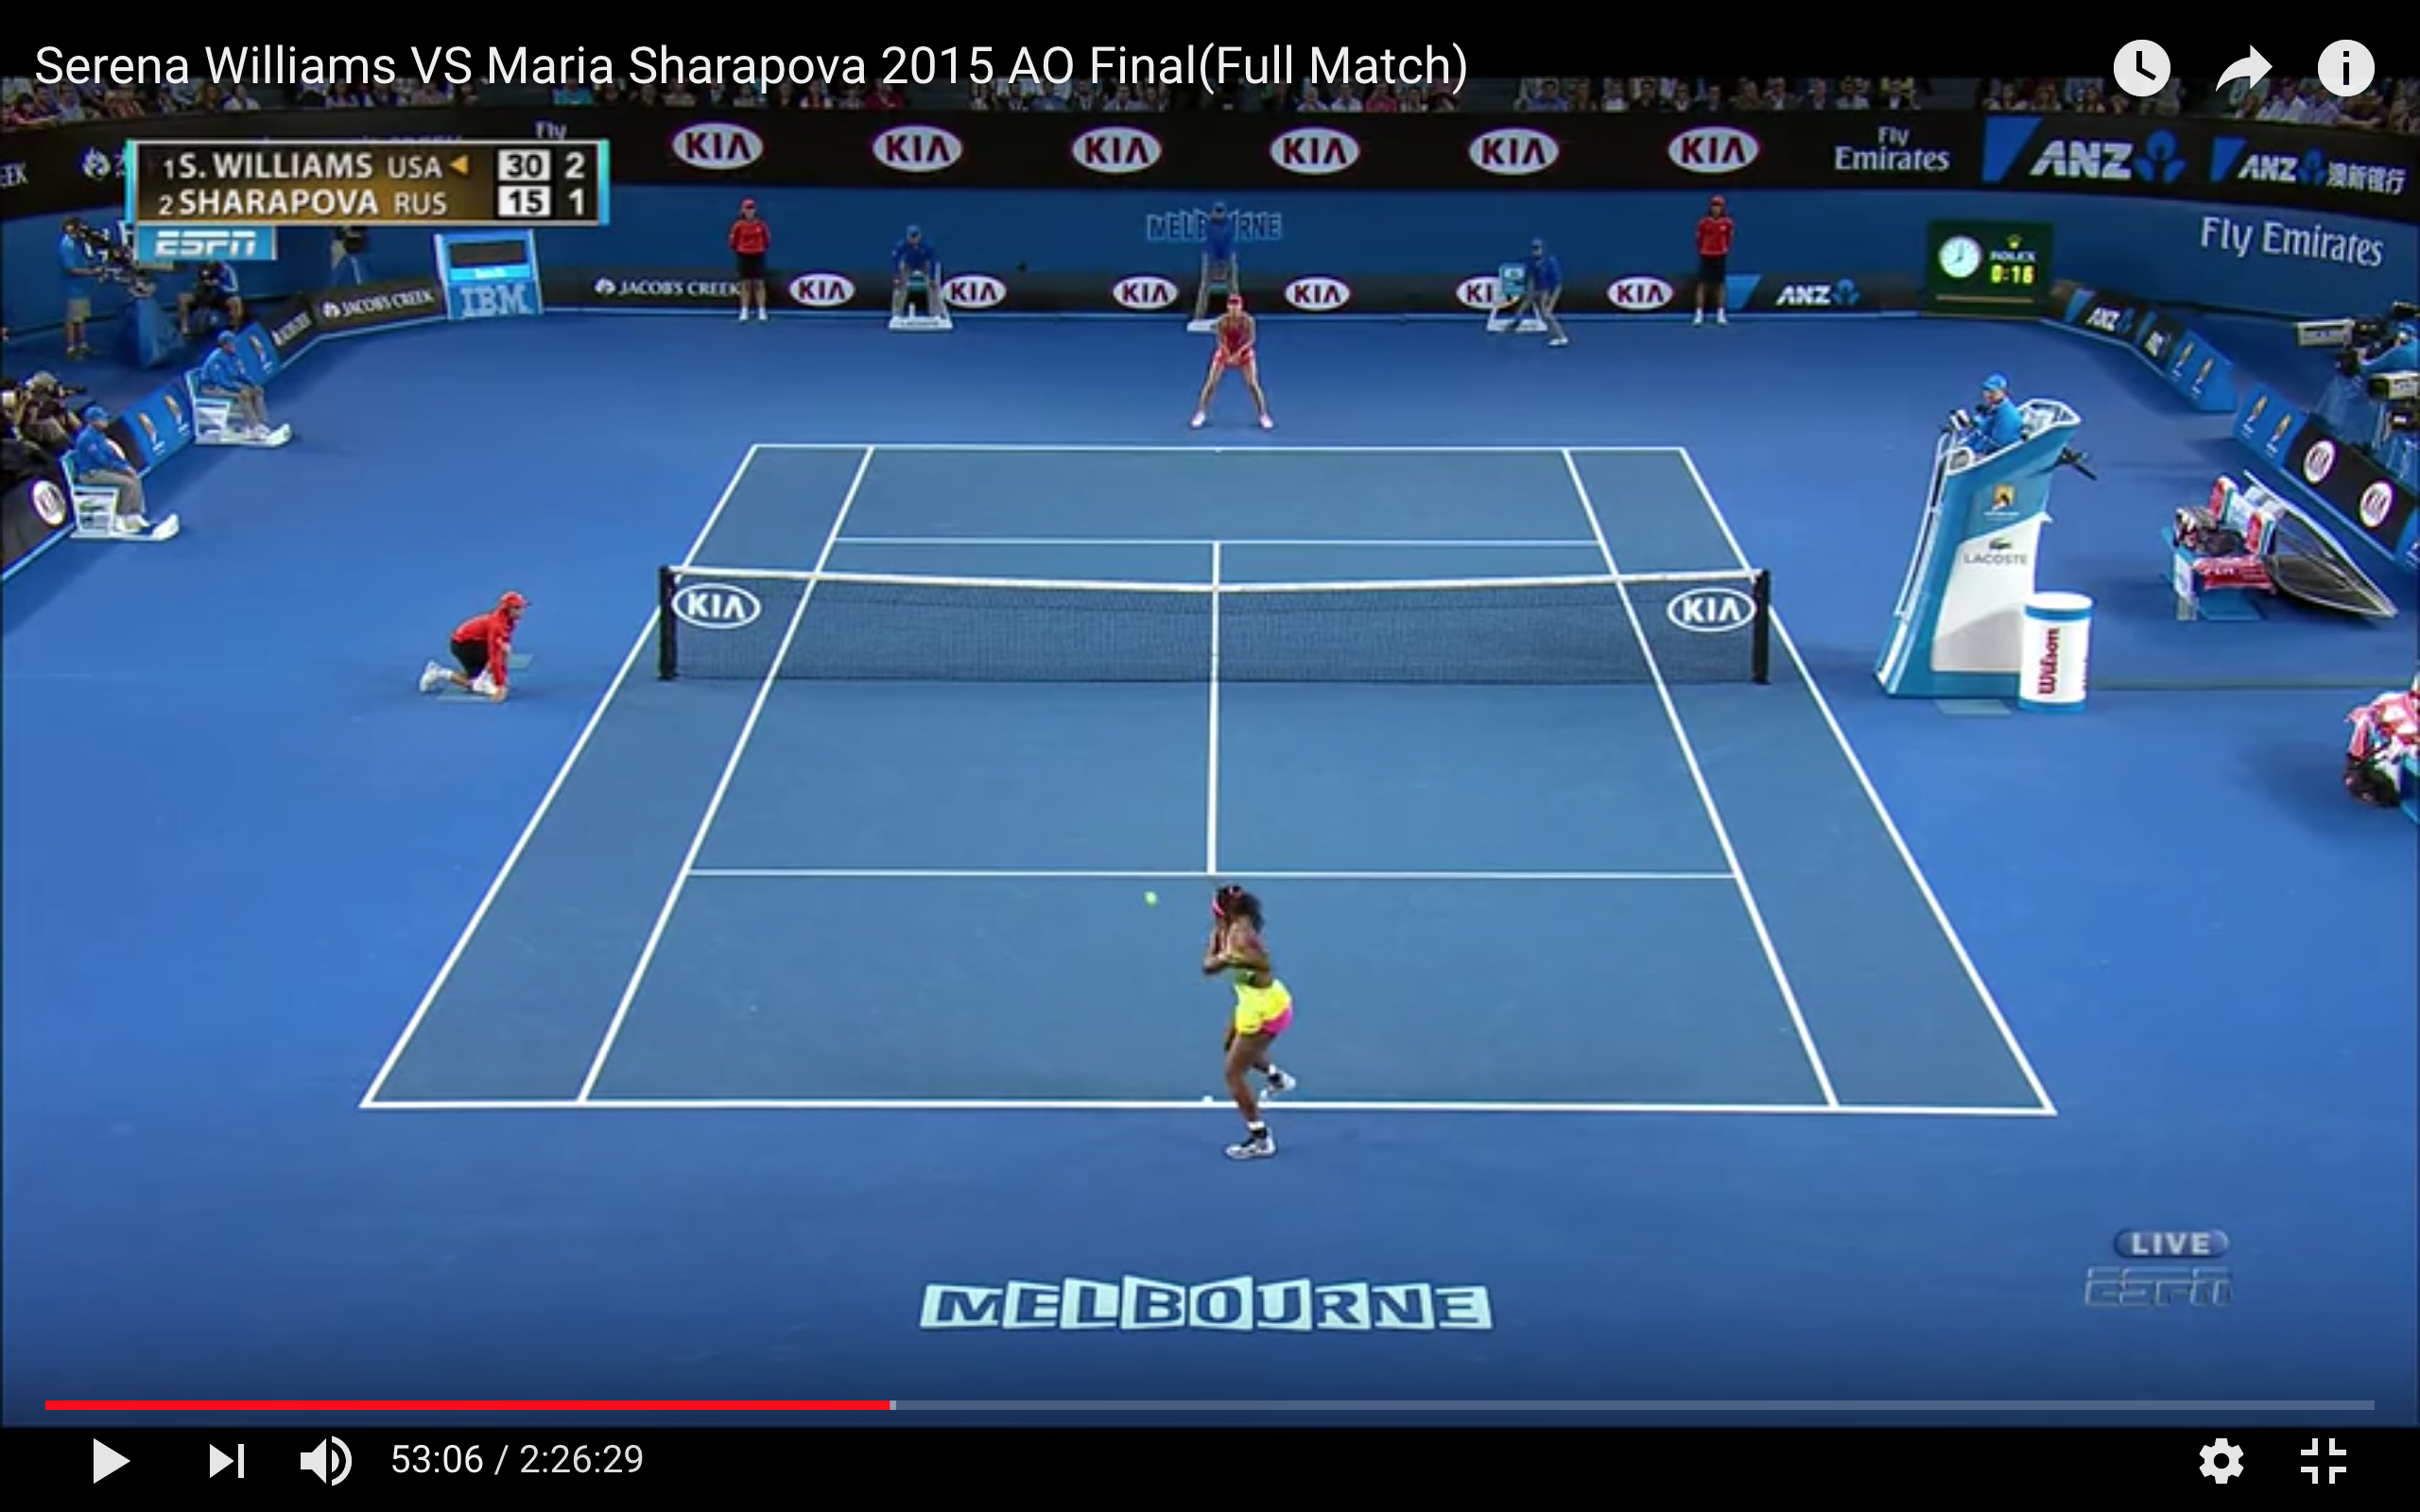tennis ball: (1141, 891, 1164, 909)
tennis player: (1196, 876, 1306, 1161), (1192, 290, 1281, 438)
